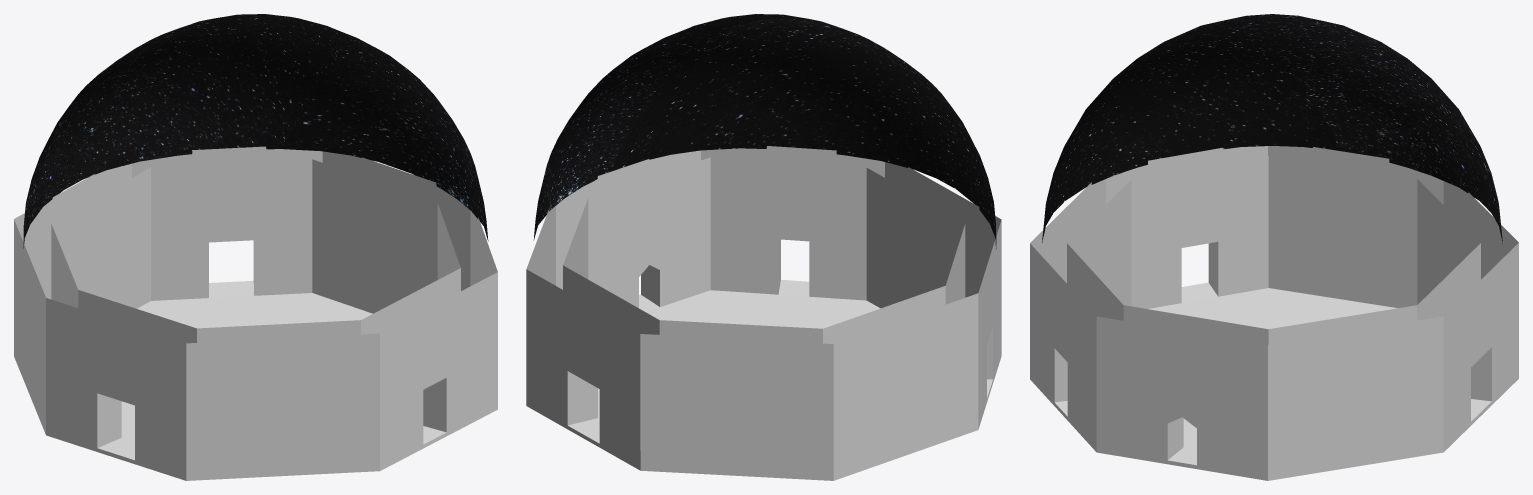
File: MUSEO.fbx
The picture shows the model from 3 angles, left to right: view 1: azimuth 30°, elevation 25°; view 2: azimuth 150°, elevation 25°; view 3: azimuth 270°, elevation 25°; orthographic projection.
Visible parts, largest first — view 1: pared, TECHOcENTRAL, platforma; view 2: pared, TECHOcENTRAL, platforma; view 3: pared, TECHOcENTRAL, platforma.
Boxes of the visible parts, x1,y1,x2,y2 form: pared: (14, 146, 497, 479); TECHOcENTRAL: (23, 14, 488, 248); platforma: (14, 280, 497, 480); pared: (526, 146, 1001, 476); TECHOcENTRAL: (533, 14, 996, 248); platforma: (526, 279, 1001, 480); pared: (1030, 146, 1518, 480); TECHOcENTRAL: (1042, 14, 1502, 243); platforma: (1030, 282, 1518, 480).
Size of the model in its own units: 12815 by 10027 by 12919.
5 materials, 2 textured.
